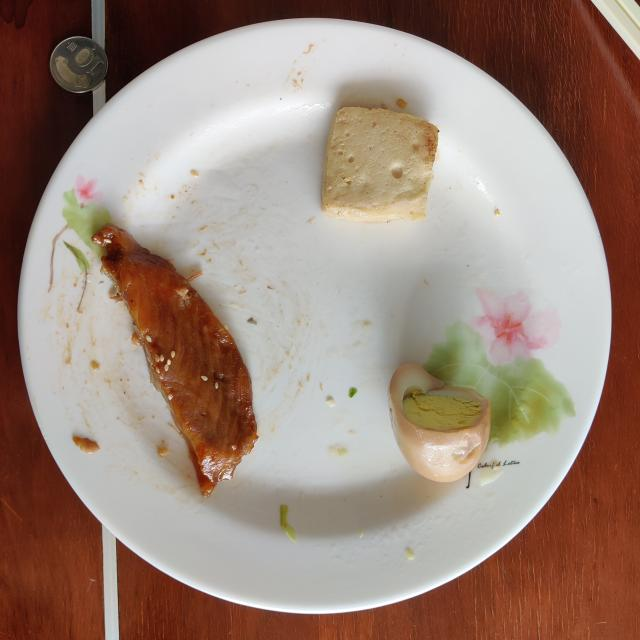Kabayaki sea bream fillet: (92, 225, 258, 496)
coin: (50, 36, 108, 92)
creamy tofu -without sauce-: (321, 108, 439, 222)
soy egg: (389, 364, 491, 482)
